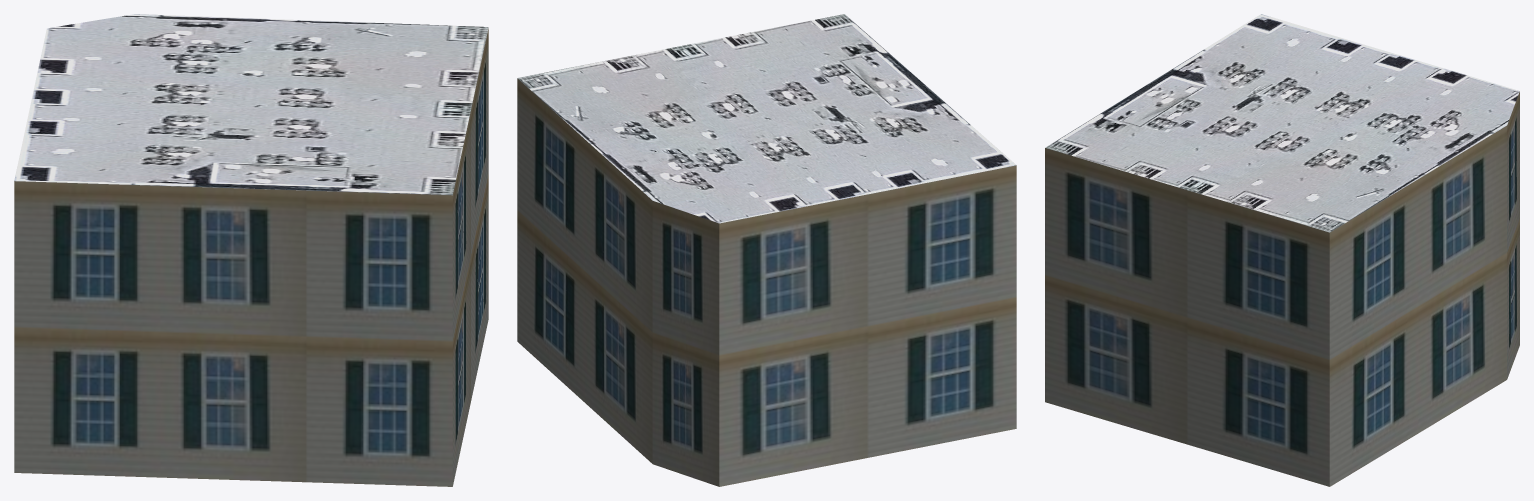
Rendered from ResTex__3882.fbx.
3 views of the same model, side by side, from view 1: azimuth 30°, elevation 25°; view 2: azimuth 150°, elevation 25°; view 3: azimuth 270°, elevation 25° (orthographic). The views are drawn at different scales.
Visible parts, largest first — view 1: CityEngineMaterial_7_m, CityEngineMaterial_m; view 2: CityEngineMaterial_7_m, CityEngineMaterial_m; view 3: CityEngineMaterial_7_m, CityEngineMaterial_m.
Boxes of the visible parts, x1=… form: CityEngineMaterial_7_m: x1=14, y1=28, x2=488, y2=486; CityEngineMaterial_m: x1=14, y1=14, x2=488, y2=195; CityEngineMaterial_7_m: x1=517, y1=78, x2=1016, y2=486; CityEngineMaterial_m: x1=517, y1=14, x2=1016, y2=223; CityEngineMaterial_7_m: x1=1045, y1=91, x2=1519, y2=486; CityEngineMaterial_m: x1=1045, y1=14, x2=1519, y2=232.
Bounding box in the file's own units: 11.06 × 6 × 10.15.
2 materials, 2 textured.
